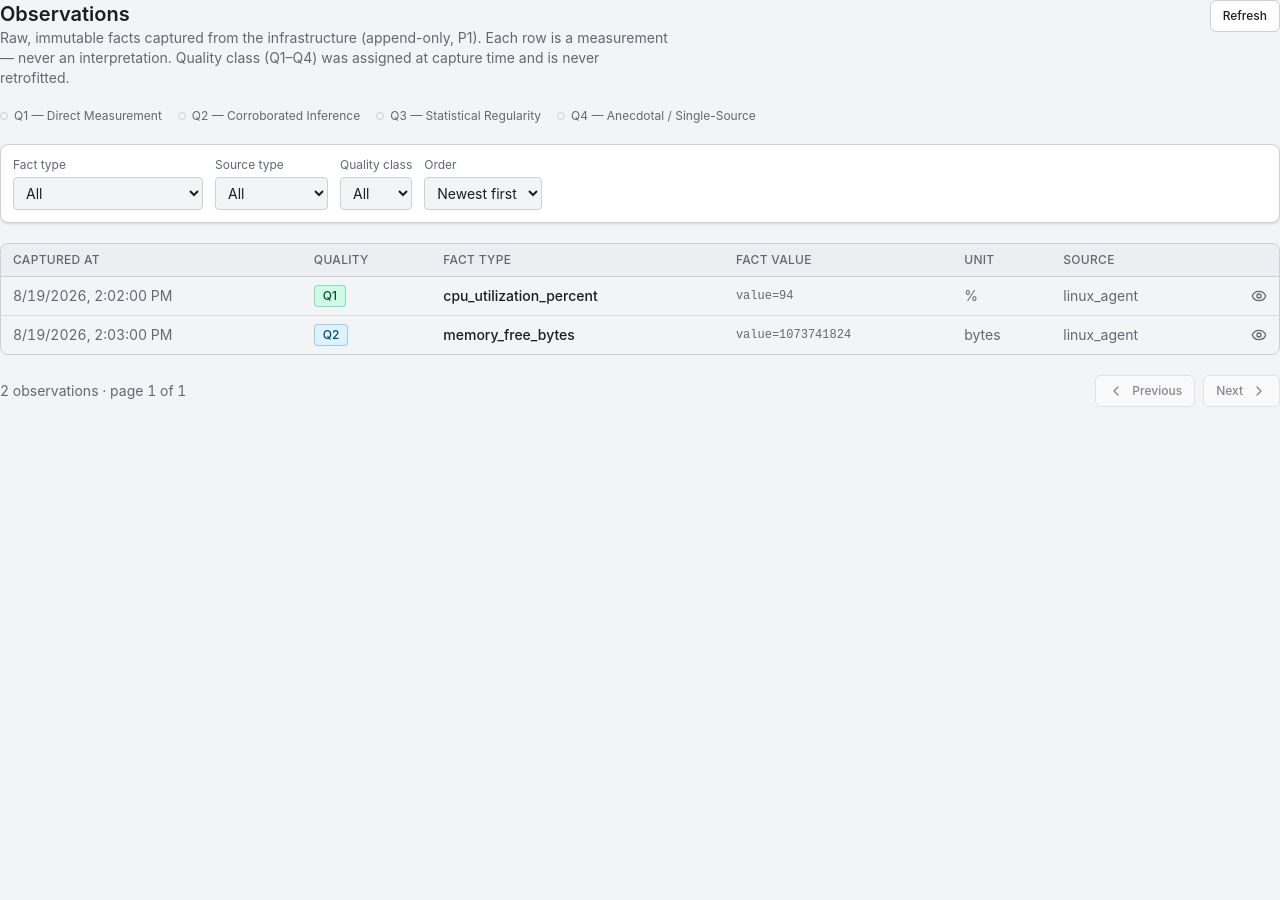
Test: ObservationsPage › opens the detail drawer with provenance fields on row click
The image size is (1280, 900).
What coordinates should you click on to do the following:
click the text "cpu_utilization_percent"
I would click on:
 (578, 296)
Its box is [431, 276, 724, 316].
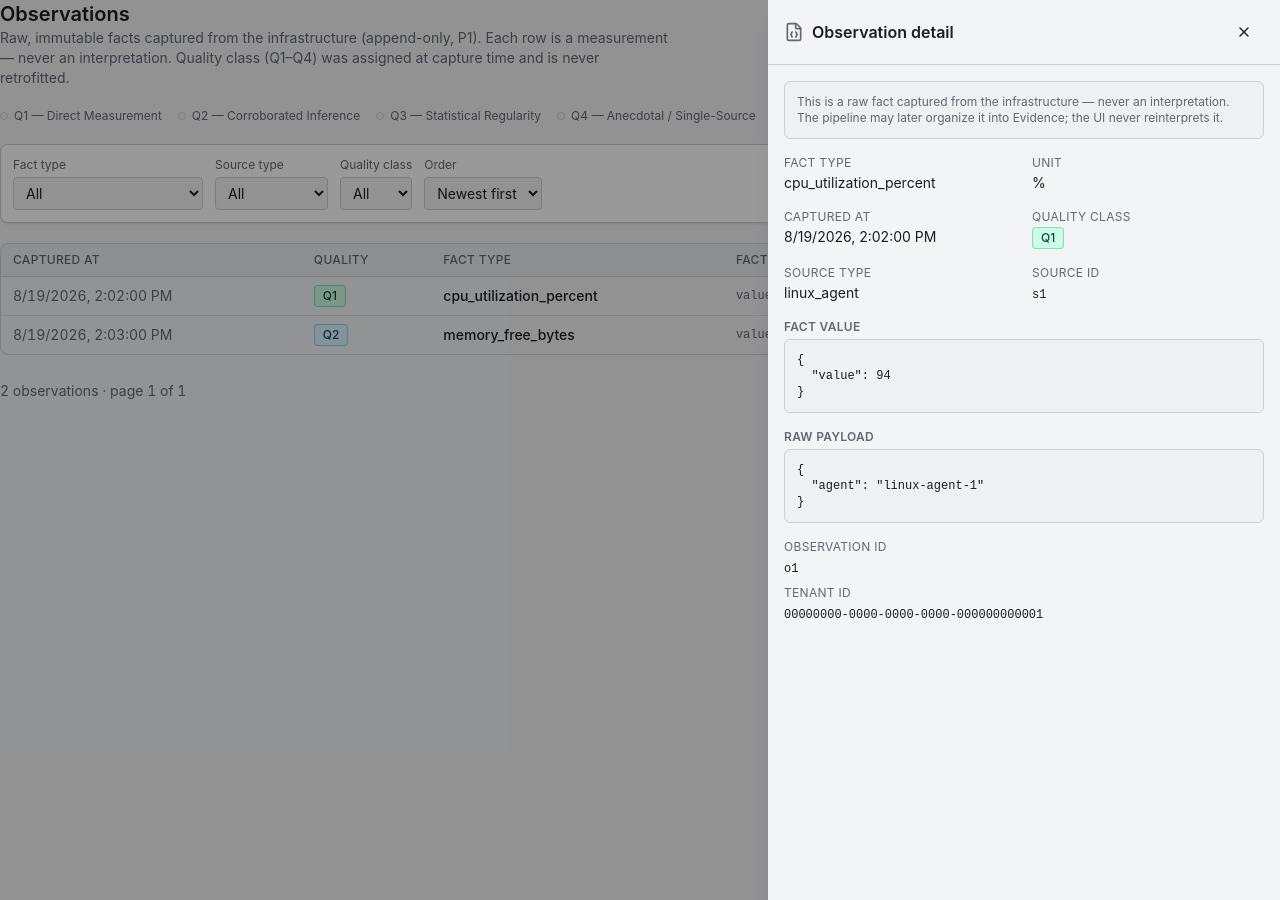
Check: the heading "Fact value" is shown, box [784, 319, 860, 334]
Check: the heading "Raw payload" is shown, box [784, 429, 874, 444]
Check: the text "{ \"agent\": \"linux-agent-1\" }" is shown, box [784, 449, 1264, 523]
